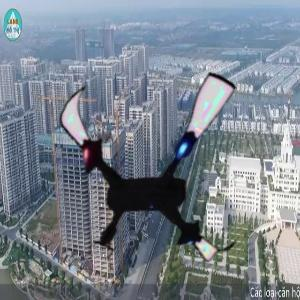drone: (44, 49, 273, 278)
